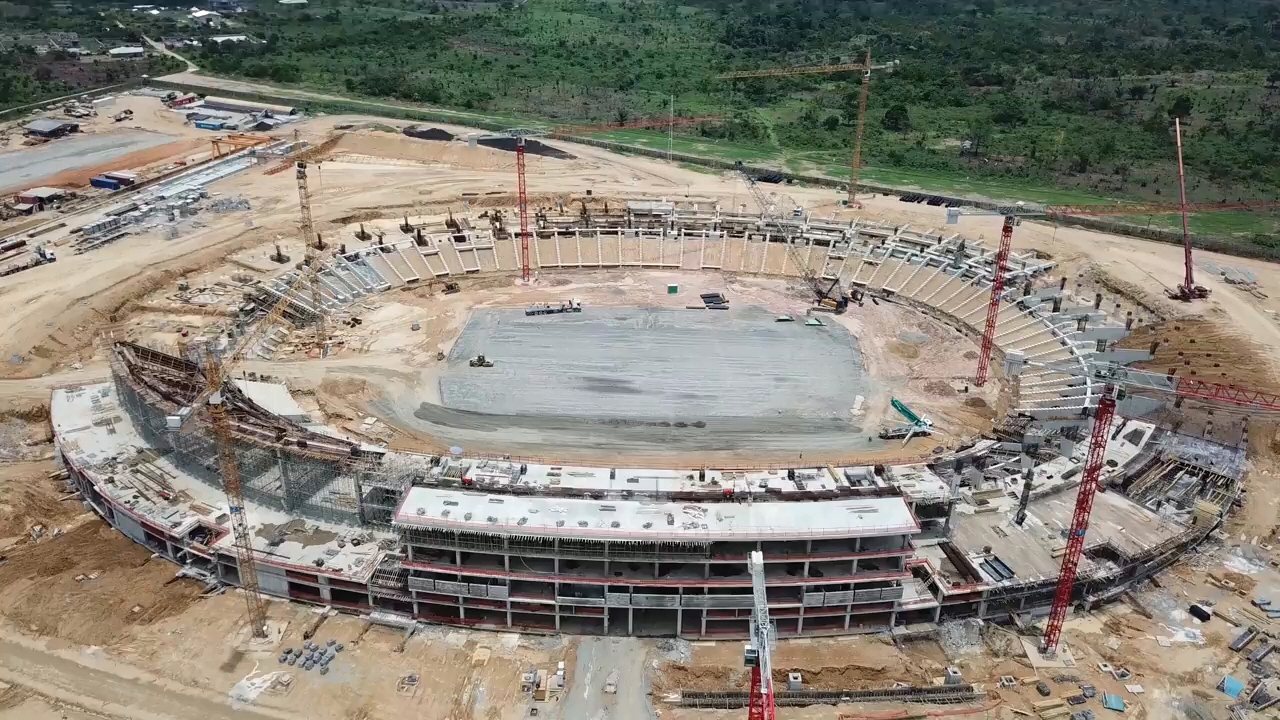kamyon: (521, 292, 583, 320)
